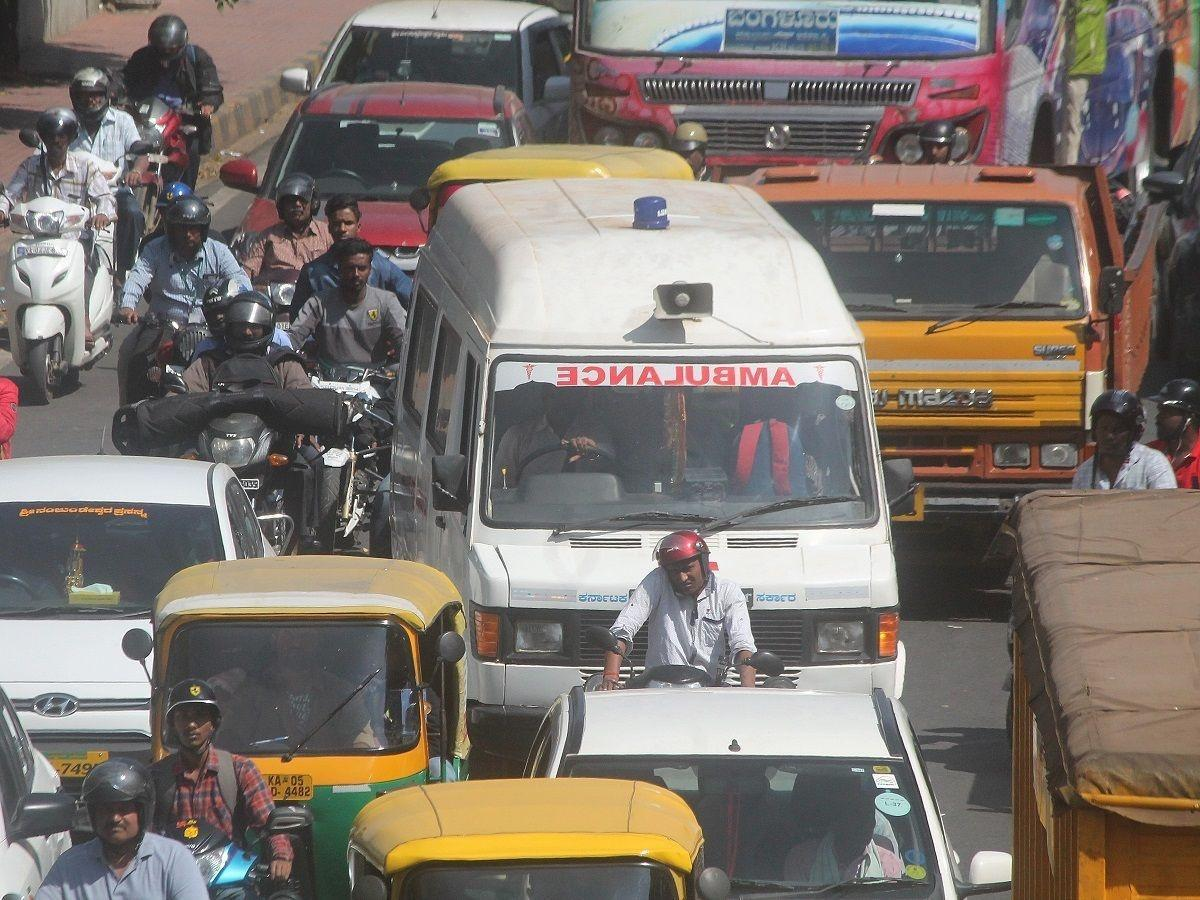ambulance: (433, 188, 884, 521)
